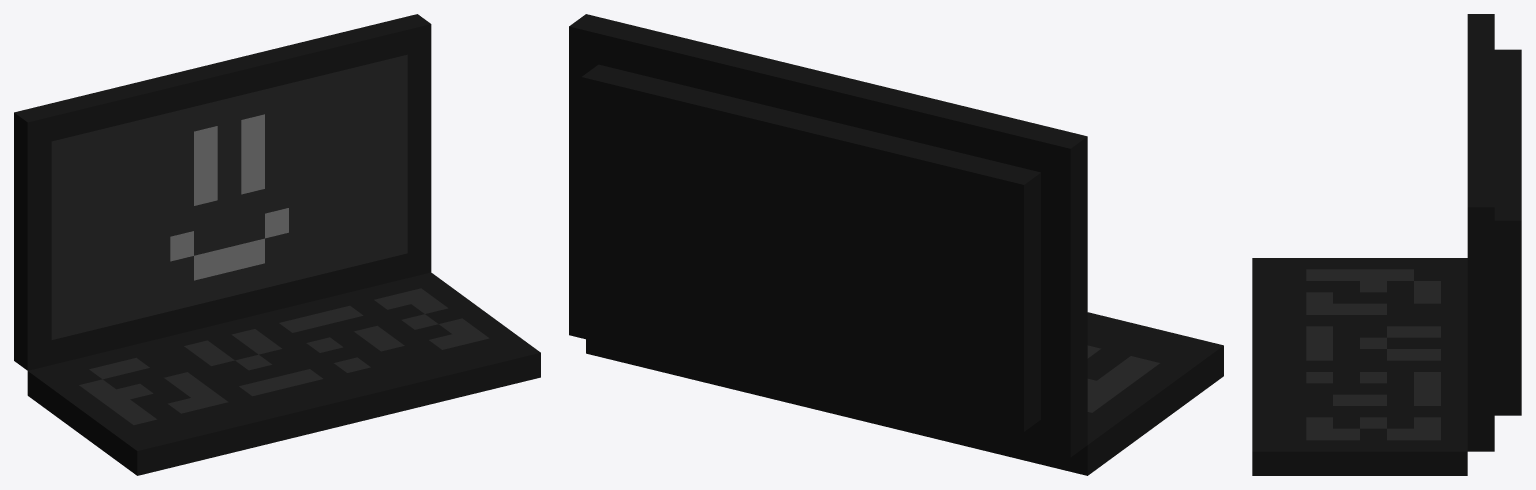
Rendered from laptop.glb.
3 renders of one model, left to right at view 1: azimuth 30°, elevation 25°; view 2: azimuth 150°, elevation 25°; view 3: azimuth 270°, elevation 25°, orthographic. The views are drawn at different scales.
Parts seen in each view (by area): view 1: laptop; view 2: laptop; view 3: laptop.
Part boxes in pixels (<box>): laptop: <box>14,14,540,475</box>; laptop: <box>569,14,1223,475</box>; laptop: <box>1252,14,1521,475</box>.
Bounding box in the file's own units: 1.7 × 1.1 × 1.
Materials: 1 (1 with a texture image).
